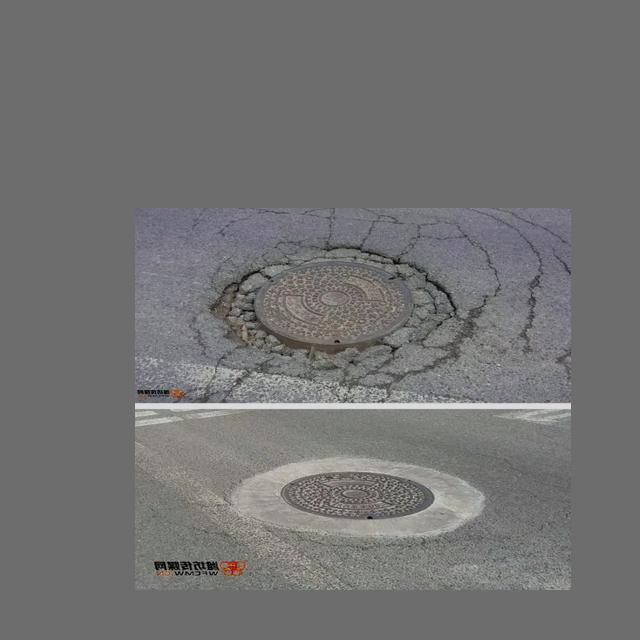circle: (190, 244, 472, 378)
